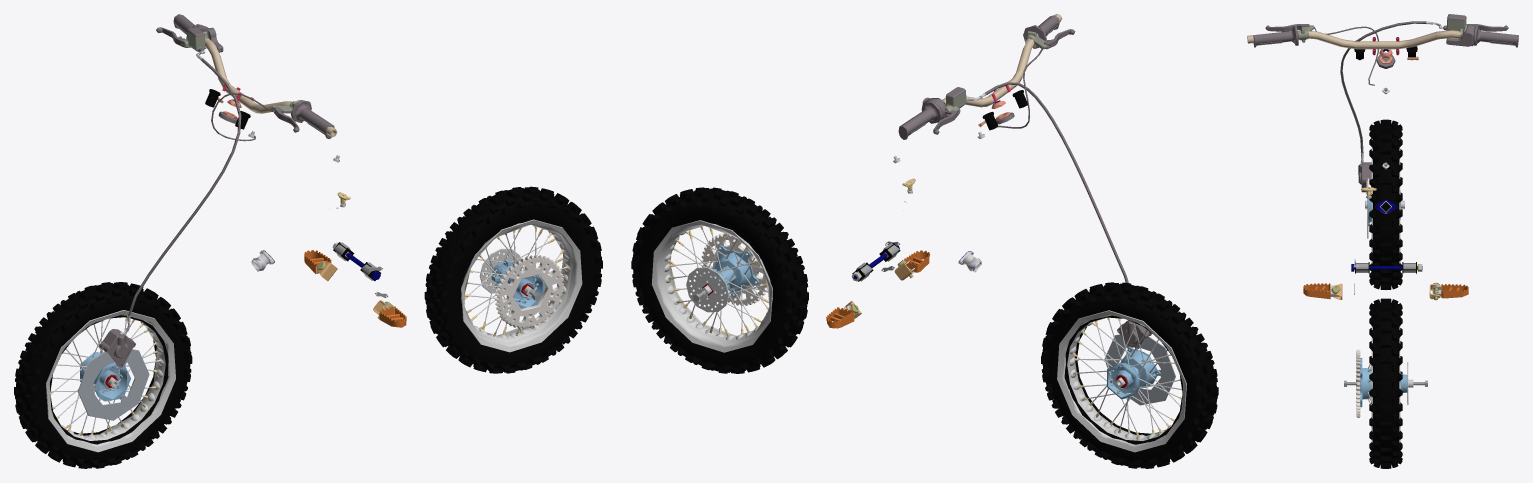
File: Other Parts Origin.fbx
3 views of the same model, side by side, from view 1: azimuth 30°, elevation 25°; view 2: azimuth 150°, elevation 25°; view 3: azimuth 270°, elevation 25° (orthographic). The views are drawn at different scales.
Visible parts, largest first — view 1: 274, 89, 276, 91, 977, 355, 166, 158, Frame 1, 310, 913, 352; view 2: 274, 89, 276, 91, 977, 166, 158, 352, 354, 310, Frame 1, 914; view 3: 274, 89, 977, Frame 1, 914, 913, 310, 881, 896, 984.
Part boxes in pixels (x1,y1,x2,y2): 274: (424, 186, 602, 373); 89: (14, 282, 192, 468); 276: (461, 219, 582, 352); 91: (46, 310, 175, 452); 977: (99, 27, 299, 367); 355: (495, 255, 564, 328); 166: (77, 349, 149, 420); 158: (80, 352, 130, 401); Frame 1: (205, 38, 337, 136); 310: (491, 259, 545, 308); 913: (291, 100, 334, 139); 352: (479, 248, 522, 293); 274: (631, 187, 808, 373); 89: (1041, 282, 1218, 468); 276: (651, 220, 772, 352); 91: (1057, 310, 1186, 452); 977: (933, 29, 1151, 349); 166: (1104, 334, 1175, 405); 158: (1107, 346, 1160, 399); 352: (686, 267, 728, 312); 354: (701, 233, 767, 305); 310: (699, 244, 759, 299); Frame 1: (942, 14, 1062, 107); 914: (898, 101, 942, 139); 274: (1369, 298, 1402, 468); 89: (1369, 119, 1402, 289); 977: (1265, 14, 1508, 192); Frame 1: (1247, 30, 1461, 49); 914: (1473, 25, 1518, 47); 913: (1253, 25, 1298, 47); 310: (1360, 358, 1407, 407); 881: (1303, 283, 1330, 299); 896: (1441, 284, 1468, 298); 984: (1446, 24, 1475, 46).
Size of the model in its own units: 8.7 by 5.4 by 4.06.
